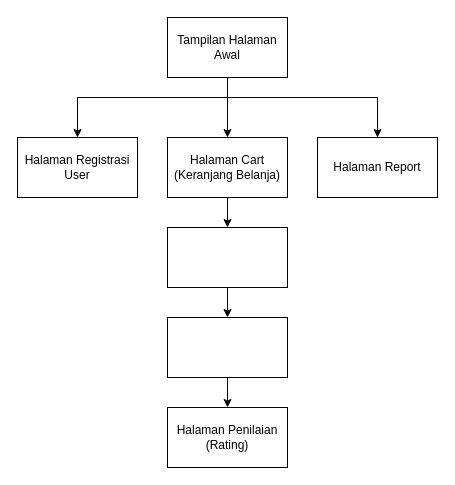
Image size: 455x485. Some labels were removed from this diagram. Each missing label, with the centre of its shape:
"Halaman Checkout" belongs at (227,257).
"Halaman Konfirmasi Payment" belongs at (227,347).
